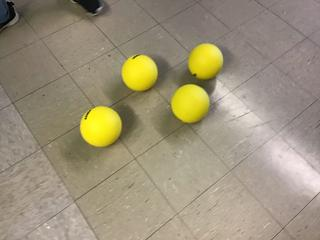power_cell: (79, 105, 125, 149), (170, 83, 213, 126), (119, 52, 162, 92), (187, 40, 224, 82)
